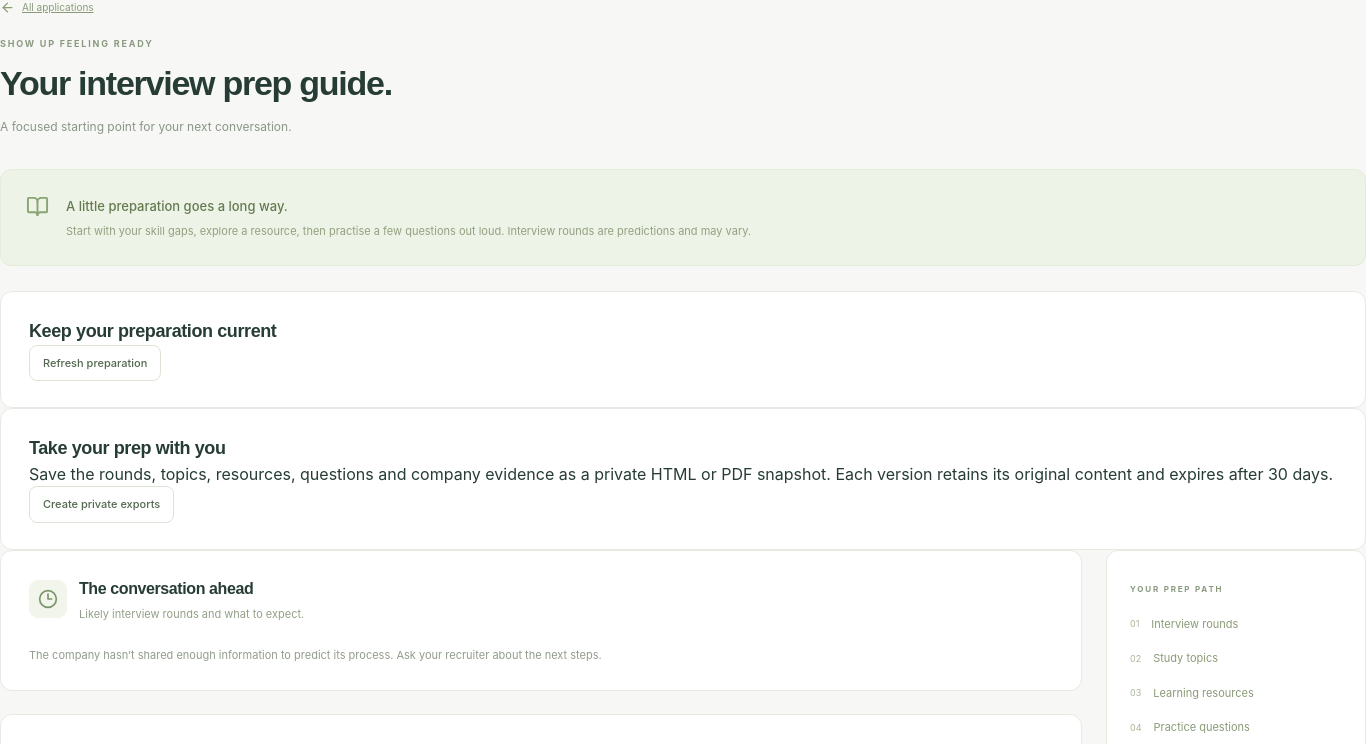
explicit prep refresh UI › shows a clean refresh error without removing the saved guide
The image size is (1366, 744).
Click the button "Refresh preparation" at (95, 363), box left=29, top=345, right=161, bottom=381
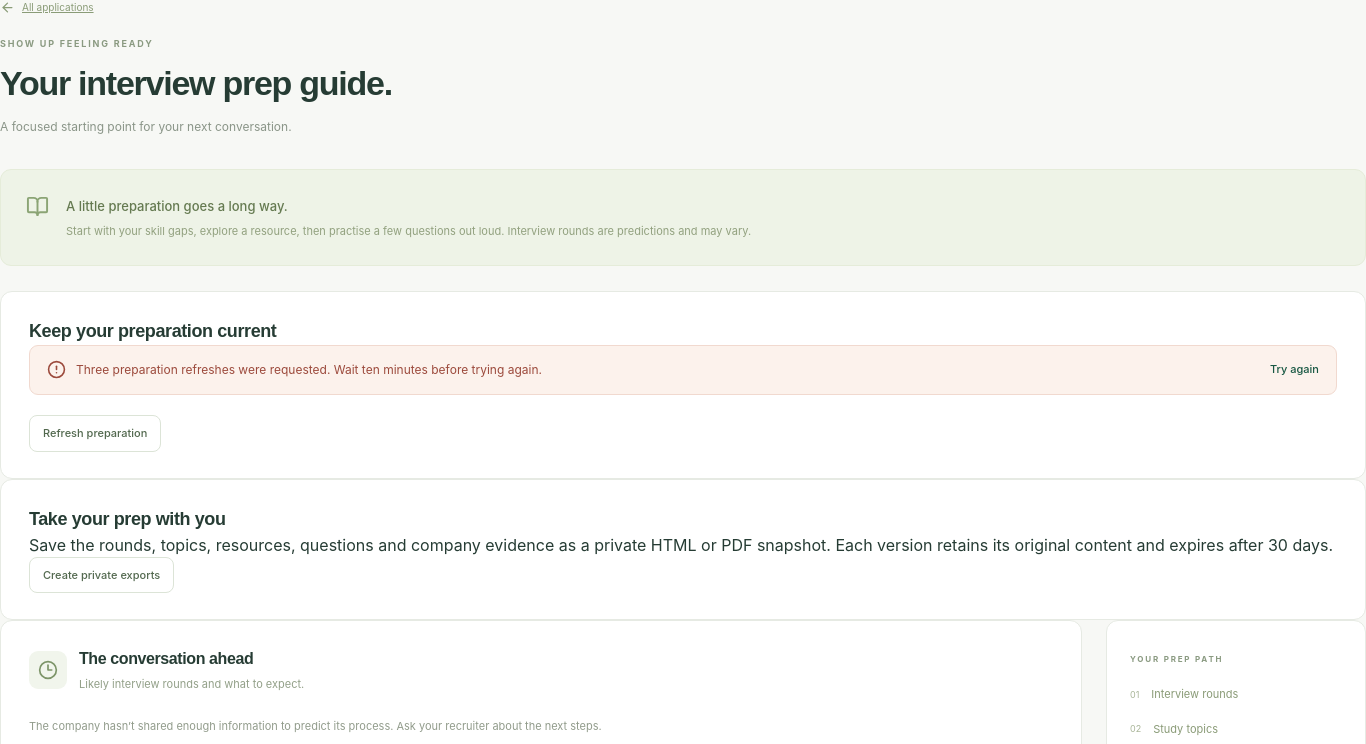
Expected: the button "Refresh preparation" is enabled, left=29, top=415, right=161, bottom=452
Result: the text "Three preparation refreshes were requested" is shown at left=76, top=362, right=542, bottom=377
